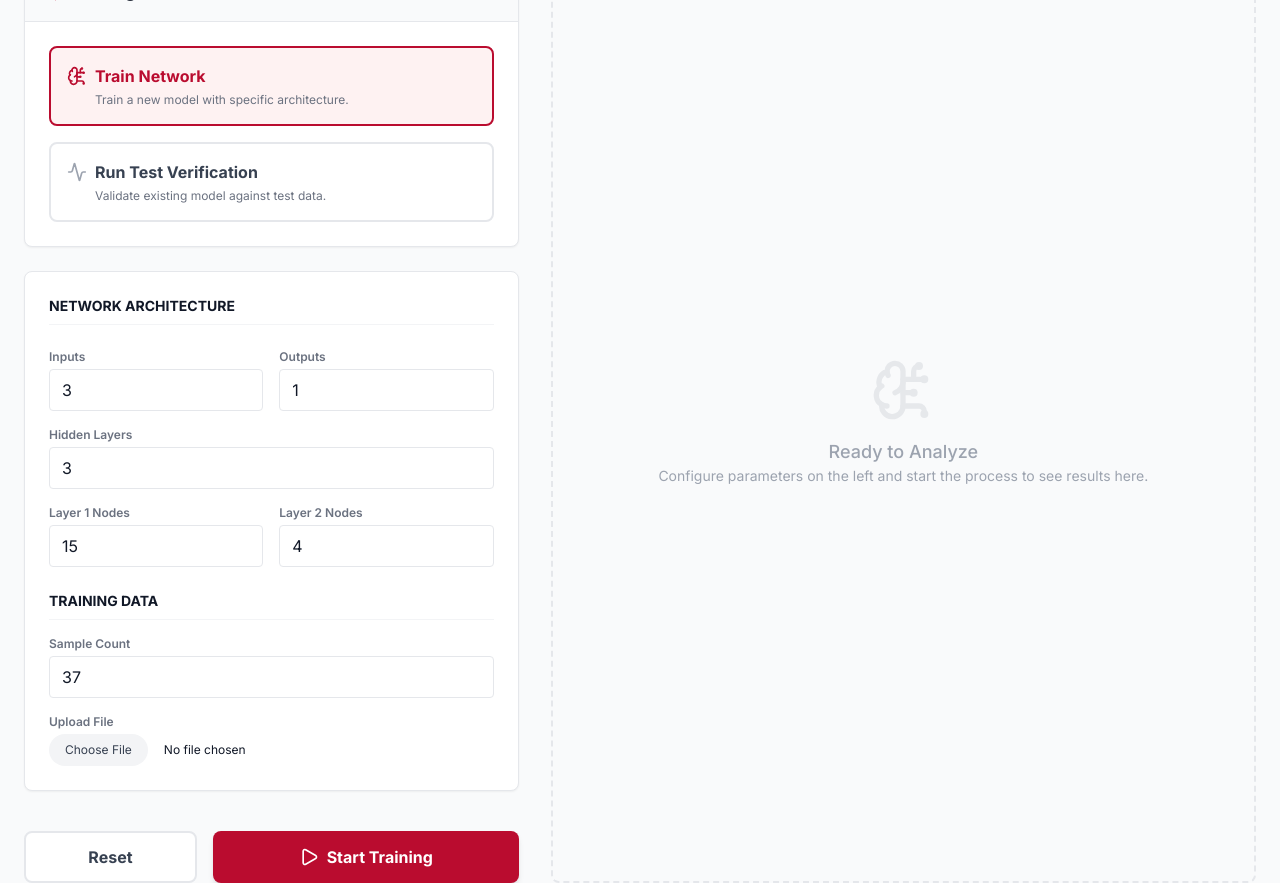
Test case: NeuralNetworkForm Component › shows modal error when training without file
(page scrolled)
Click the button "Start Training". click: [366, 857]
box: [213,831,519,882]
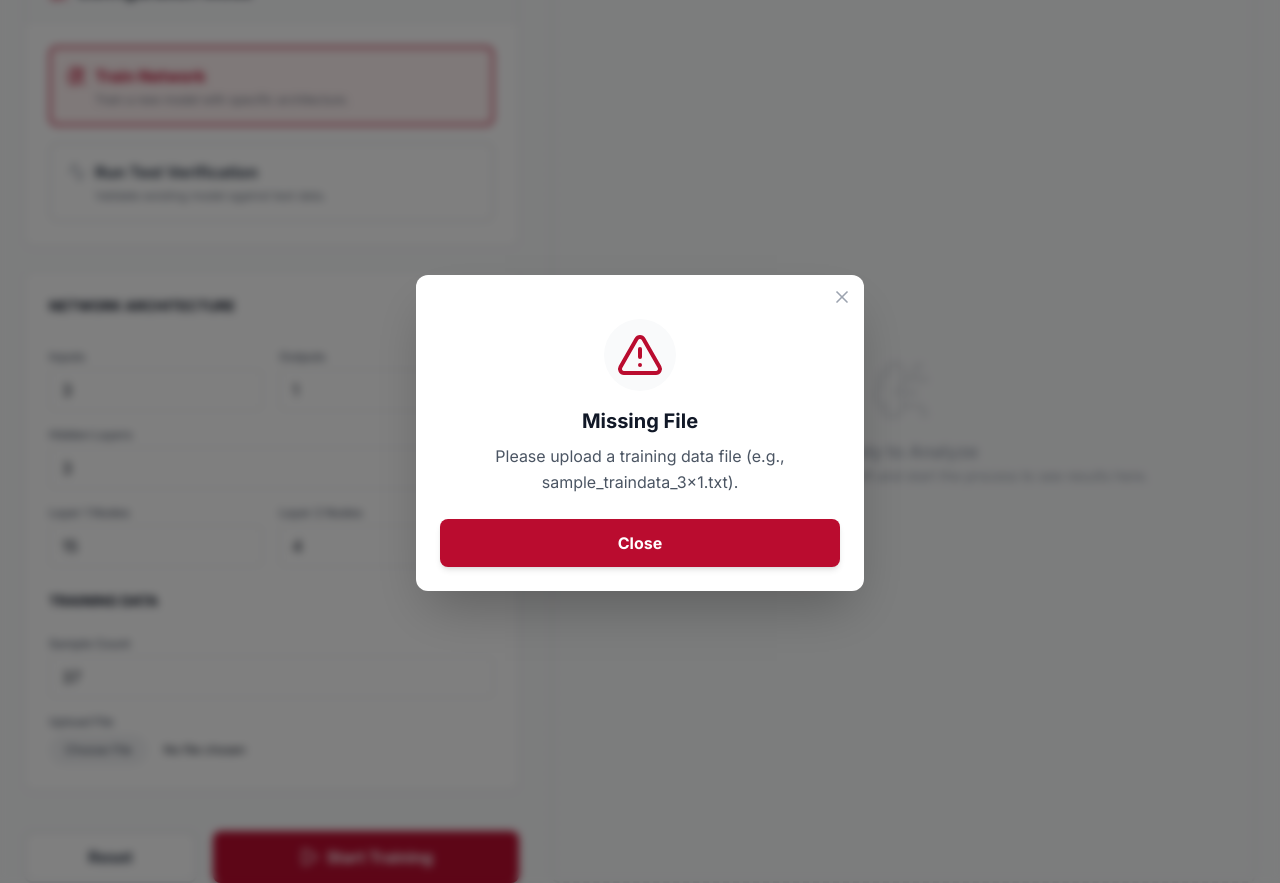
Expected: the heading "Missing File" is shown, [582,407,698,435]
Expected: the text "Please upload a training data file" is shown, [495,446,785,492]
